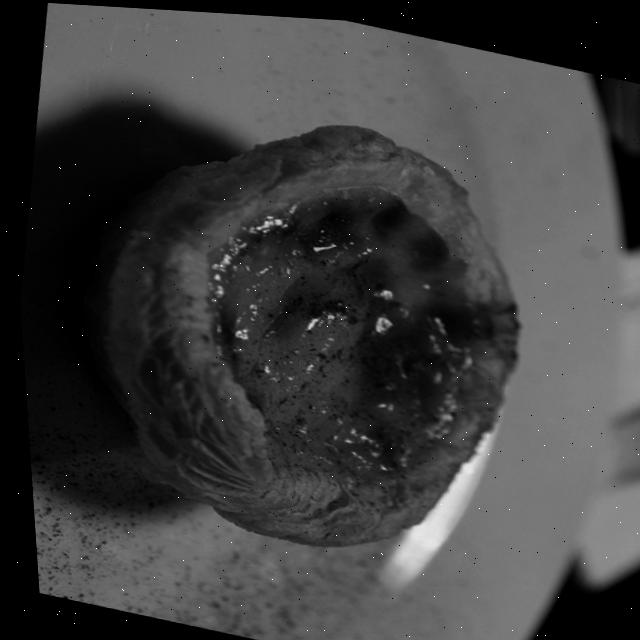炸货点心: (40, 62, 586, 596)
蛋糕甜品: (40, 62, 586, 596)
